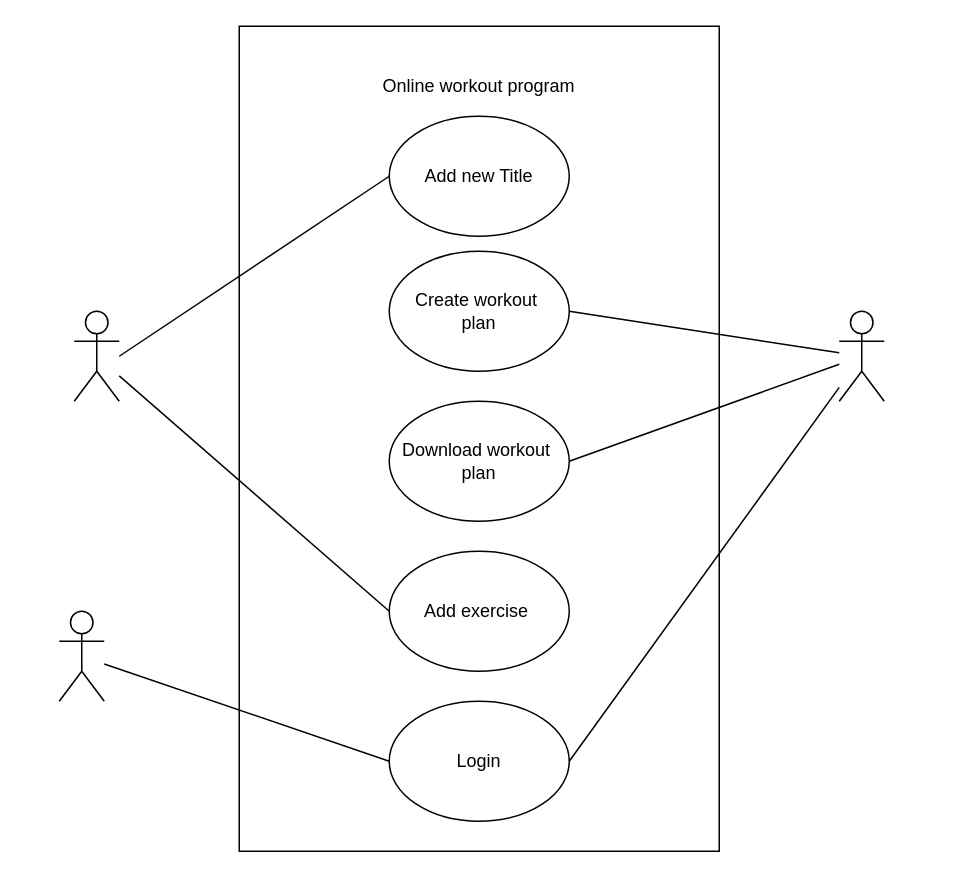
Some shapes in this 954 by 878 pixel diagram are drawn without their labels. The shapes that lost their labels are listed below. From the top down, each one's centre as x and y in pixels, then its label:
At (96,355): "Administrator".
At (861,355): "Online Customer".
At (81,655): "login validator".
